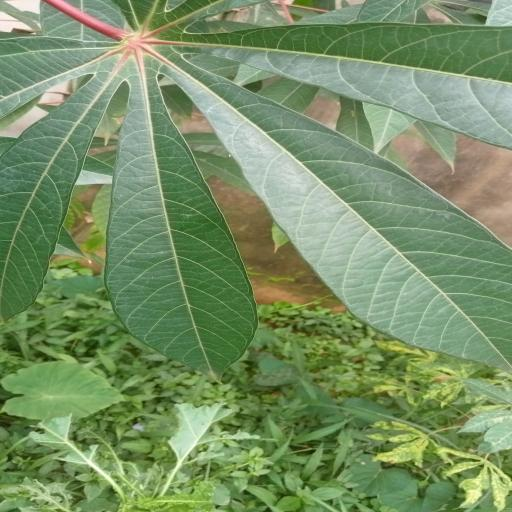Cassava_Healthy: (9, 3, 512, 371)
